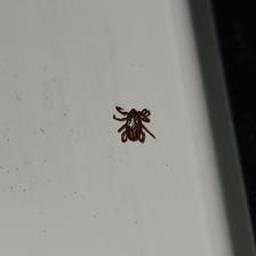Rhipicephalus sanguineus: (112, 107, 156, 144)
